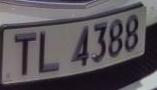3: (90, 20, 107, 63)
4: (69, 23, 91, 68)
8: (123, 12, 142, 55), (108, 18, 124, 59)
L: (35, 28, 61, 78)
T: (11, 29, 38, 80)
